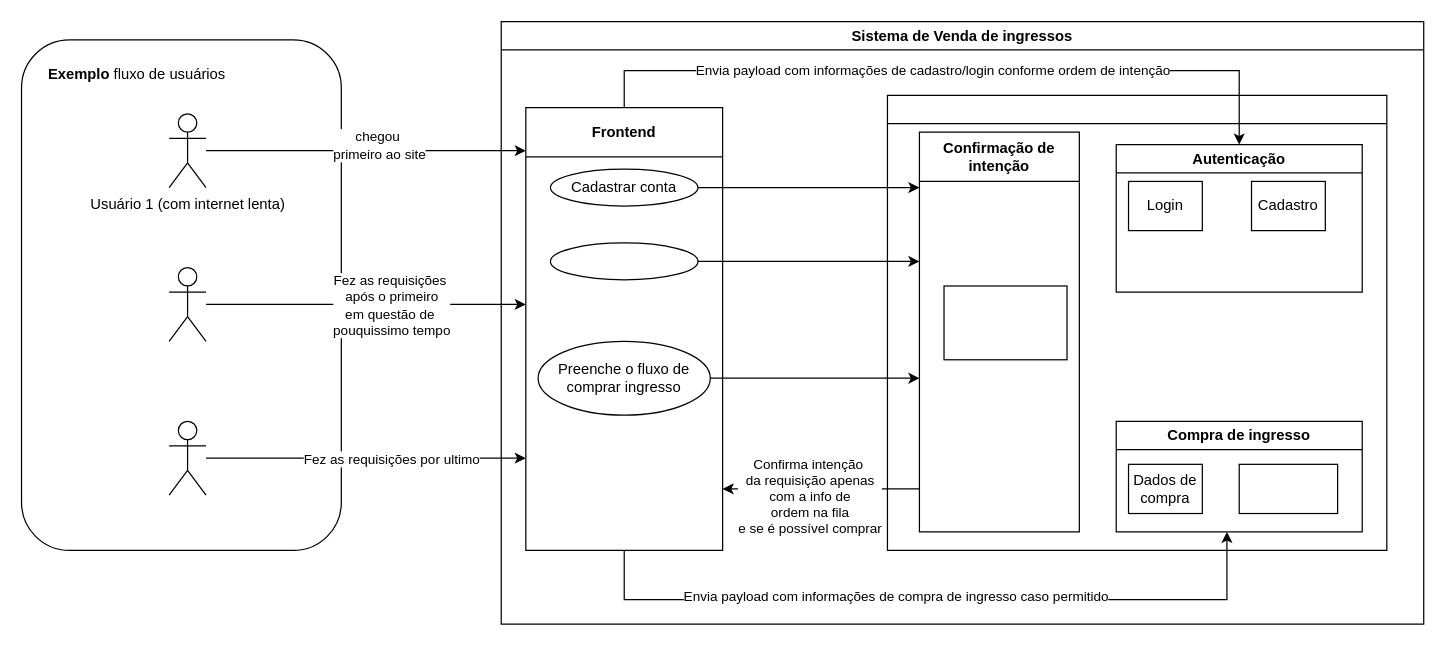
Some shapes in this 1445 by 646 pixel diagram are drawn without their labels. The box of each missing label's shape, as (x1, y1, x2, y2) in pixels:
- nº Ordem na fila - Há ingressos disponíveis?: (943, 285, 1067, 360)
Backend: (886, 94, 1387, 550)
Confirmação da compra: (1238, 463, 1338, 514)
Realizar Login: (549, 242, 698, 280)
Usuário 2 (c/ internet rápida): (168, 266, 206, 341)
Usuário 3: (168, 420, 206, 495)
